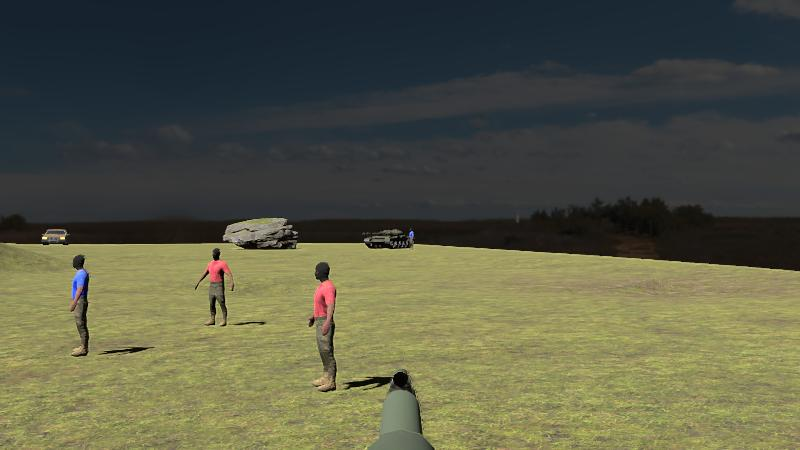Human: (308, 260, 336, 391), (196, 247, 234, 327), (70, 253, 90, 357)
